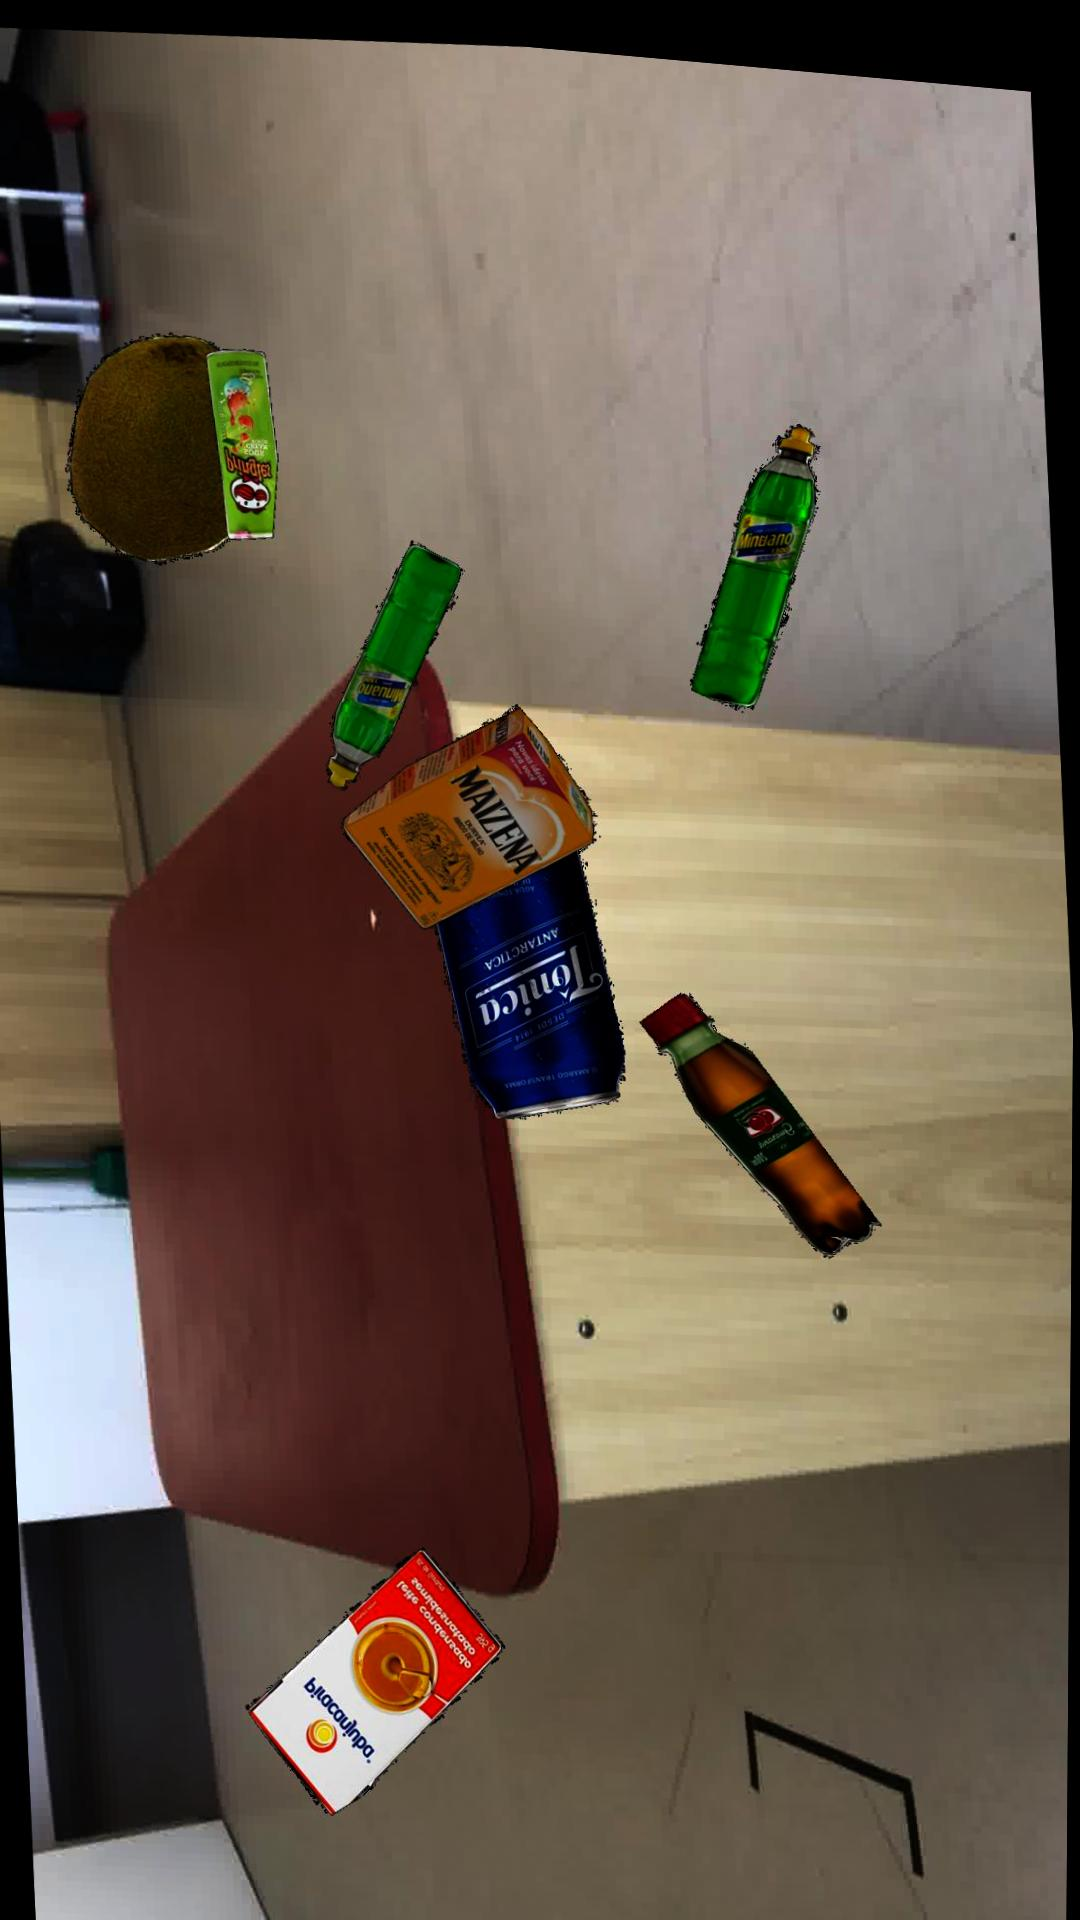cleaner: (692, 407, 820, 695), (328, 530, 464, 779)
guarana: (642, 978, 884, 1237)
kiwi: (70, 328, 229, 560)
pringles: (207, 343, 280, 533)
tonic: (438, 837, 628, 1108)
